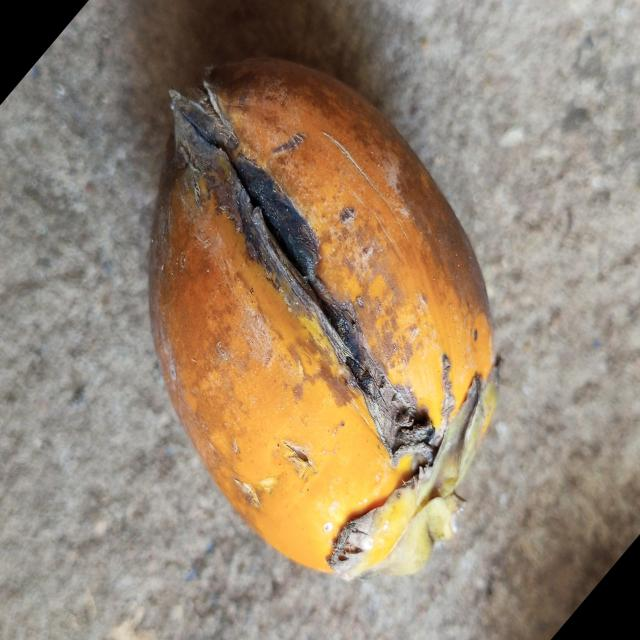damaged: (149, 58, 500, 579)
